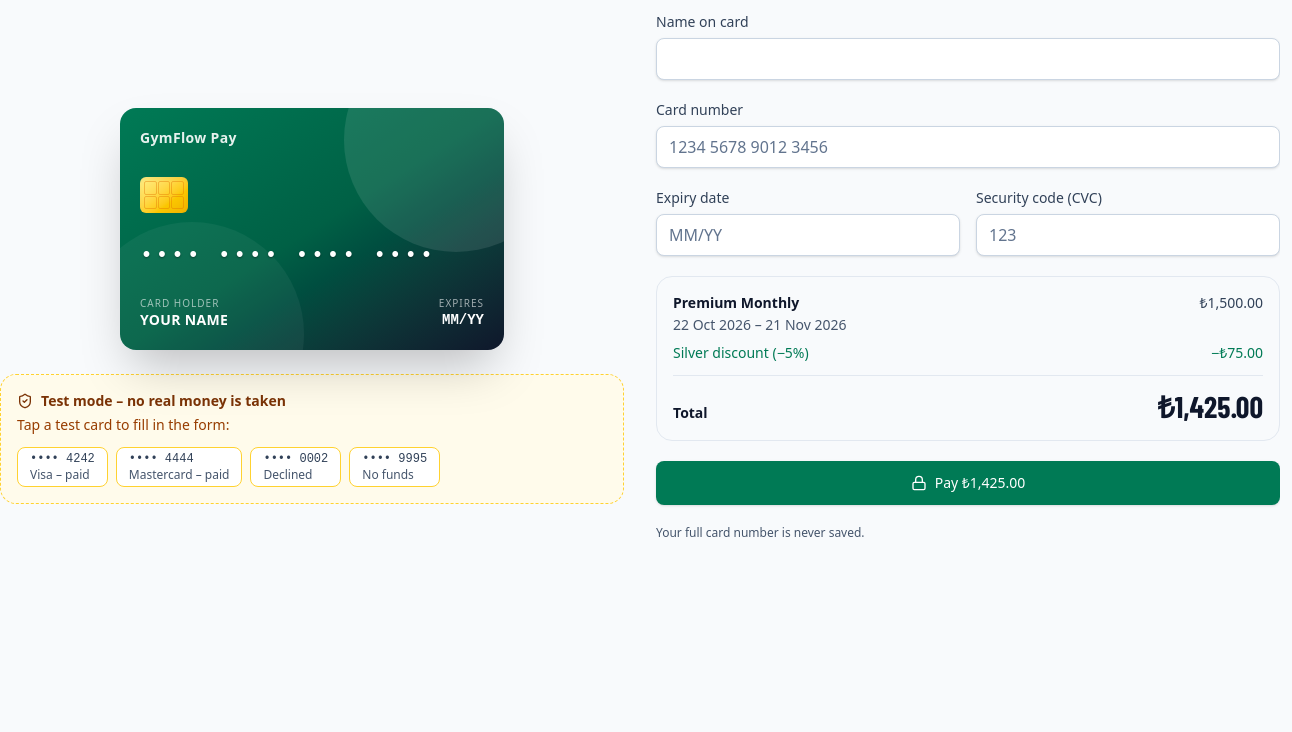
Test case: CardCheckout › formats what the member types: groups of four digits and MM/YY
This screenshot has width=1292, height=732.
Type "5555555555554444" into the field labelled "Card number" at (968, 147), box [656,126,1280,168]
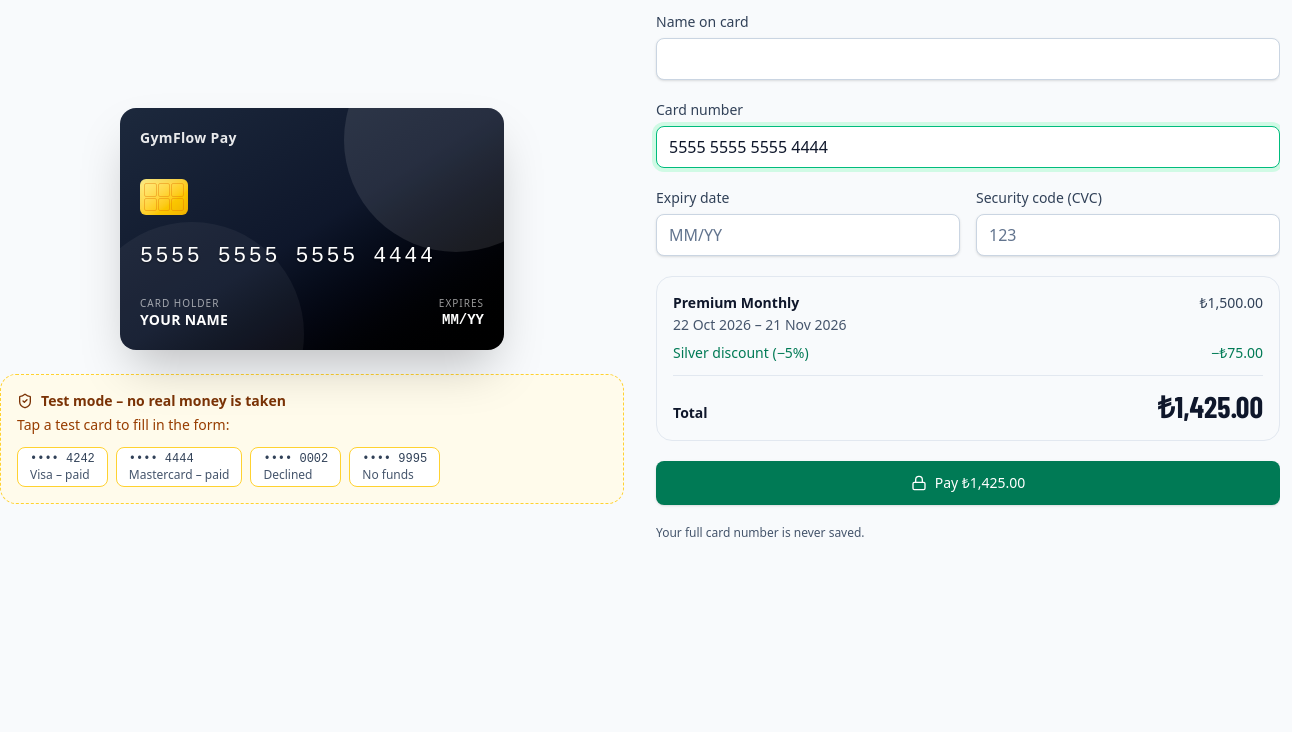
Type "1229" into the field labelled "Expiry date" at (808, 235), box [656,214,960,256]
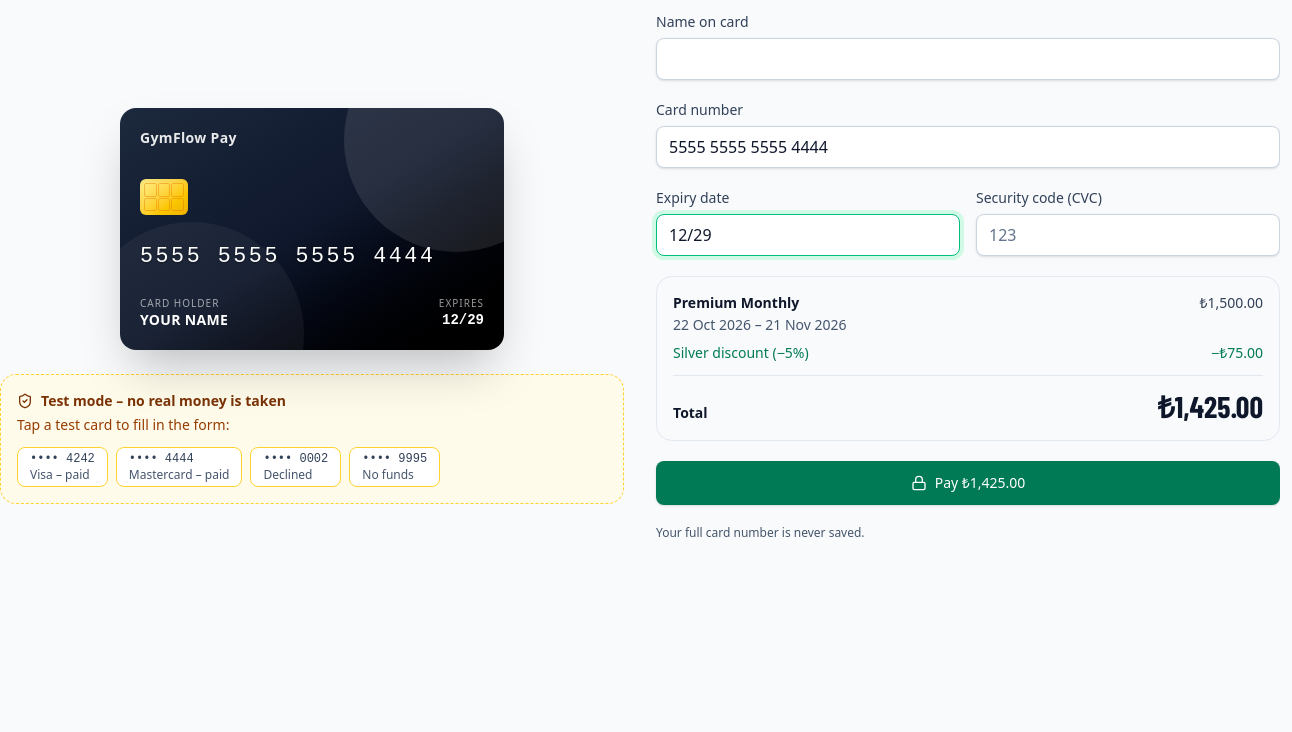
Expected: the field labelled "Card number" holds "5555 5555 5555 4444", [656,126,1280,168]
Expected: the field labelled "Expiry date" holds "12/29", [656,214,960,256]
